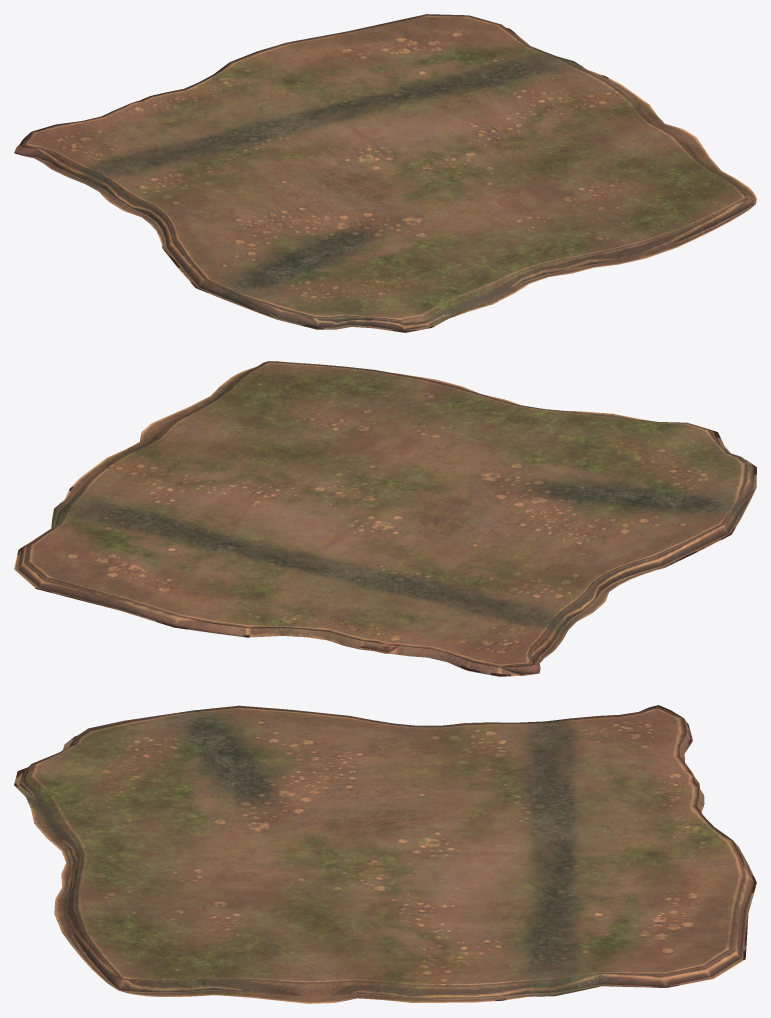
File: Ground_Terrain.FBX
The picture shows the model from 3 angles, top to bottom: view 1: azimuth 30°, elevation 25°; view 2: azimuth 150°, elevation 25°; view 3: azimuth 270°, elevation 25°; orthographic projection. The views are drawn at different scales.
Visible parts, largest first — view 1: Ground_Terrain_Low001asd; view 2: Ground_Terrain_Low001asd; view 3: Ground_Terrain_Low001asd.
Part boxes in pixels (x1,y1,x2,y2): Ground_Terrain_Low001asd: (14, 14, 756, 332); Ground_Terrain_Low001asd: (14, 361, 756, 676); Ground_Terrain_Low001asd: (14, 705, 756, 1003).
Size of the model in its own units: 2719 by 33.51 by 2897.
Materials: 1 (1 with a texture image).
